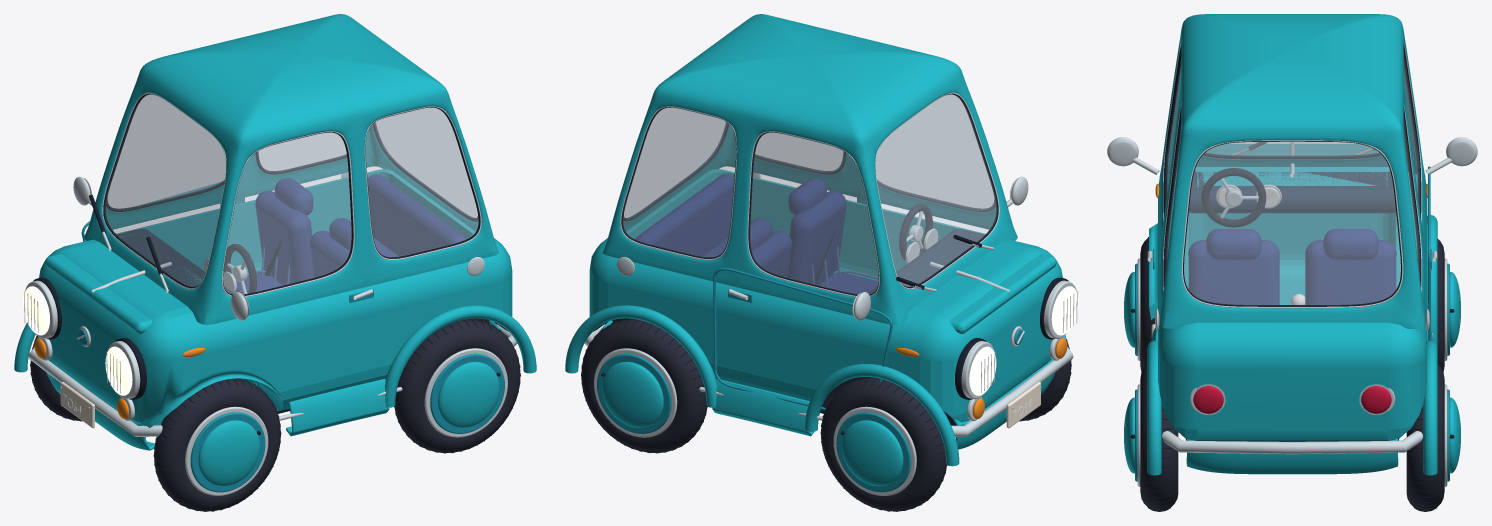
The model's file is Turquoise_Microcar.glb.
3 renders of one model, left to right at view 1: azimuth 30°, elevation 25°; view 2: azimuth 150°, elevation 25°; view 3: azimuth 270°, elevation 25°, orthographic. The views are drawn at different scales.
Parts seen in each view (by area): view 1: Upper chassis • one piece with inset window frames, Rounded lower body, Inset glass • left 2, Inset glass • front 0, Inset glass • left 3, Inset glass • right 4, Rounded tire, Rounded tire.002, Inset glass • rear 1, Rear bench back, Seat back.001, Skirt • left rocker (+28 smaller); view 2: Upper chassis • one piece with inset window frames, Rounded lower body, Inset glass • right 4, Inset glass • front 0, Inset glass • right 5, Inset glass • left 2, Rounded tire.001, Rounded tire.003, Inset glass • rear 1, Rear bench back, Seat back, Sculpted wheel arch.001 (+30 smaller); view 3: Upper chassis • one piece with inset window frames, Rounded lower body, Inset glass • rear 1, Dashboard, Seat back, Seat back.001, Skirt • rear valance, Wraparound polished bumper.001, Rounded tire.002, Rounded tire.003, Inset glass • front 0, Sculpted wheel arch.002 (+27 smaller).
Boxes of the visible parts, box(x1,y1,x2,y2) form: Upper chassis • one piece with inset window frames: box(84, 14, 498, 324); Rounded lower body: box(39, 169, 512, 427); Inset glass • left 2: box(223, 133, 351, 293); Inset glass • front 0: box(105, 94, 225, 286); Inset glass • left 3: box(366, 108, 478, 256); Inset glass • right 4: box(108, 95, 225, 208); Rounded tire: box(154, 378, 280, 511); Rounded tire.002: box(394, 319, 520, 452); Inset glass • rear 1: box(375, 108, 477, 217); Rear bench back: box(367, 174, 466, 256); Seat back.001: box(255, 190, 313, 285); Skirt • left rocker: box(286, 379, 389, 436); Upper chassis • one piece with inset window frames: box(603, 14, 1017, 324); Rounded lower body: box(589, 169, 1066, 425); Inset glass • right 4: box(750, 133, 878, 294); Inset glass • front 0: box(876, 94, 996, 286); Inset glass • right 5: box(623, 108, 735, 257); Inset glass • left 2: box(876, 95, 994, 209); Rounded tire.001: box(821, 377, 946, 511); Rounded tire.003: box(581, 319, 707, 452); Inset glass • rear 1: box(624, 108, 726, 217); Rear bench back: box(635, 174, 734, 256); Seat back: box(787, 190, 846, 285); Sculpted wheel arch.001: box(805, 364, 959, 466); Upper chassis • one piece with inset window frames: box(1159, 14, 1425, 328); Rounded lower body: box(1149, 150, 1426, 441); Inset glass • rear 1: box(1184, 142, 1400, 304); Dashboard: box(1189, 171, 1395, 213); Seat back: box(1188, 240, 1279, 304); Seat back.001: box(1305, 240, 1396, 304); Skirt • rear valance: box(1186, 439, 1398, 474); Wraparound polished bumper.001: box(1162, 431, 1422, 454); Rounded tire.002: box(1140, 364, 1178, 511); Rounded tire.003: box(1406, 364, 1444, 511); Inset glass • front 0: box(1206, 142, 1378, 155); Sculpted wheel arch.002: box(1147, 340, 1161, 475).
Size of the model in its own units: 3.14 by 2.81 by 2.34.
